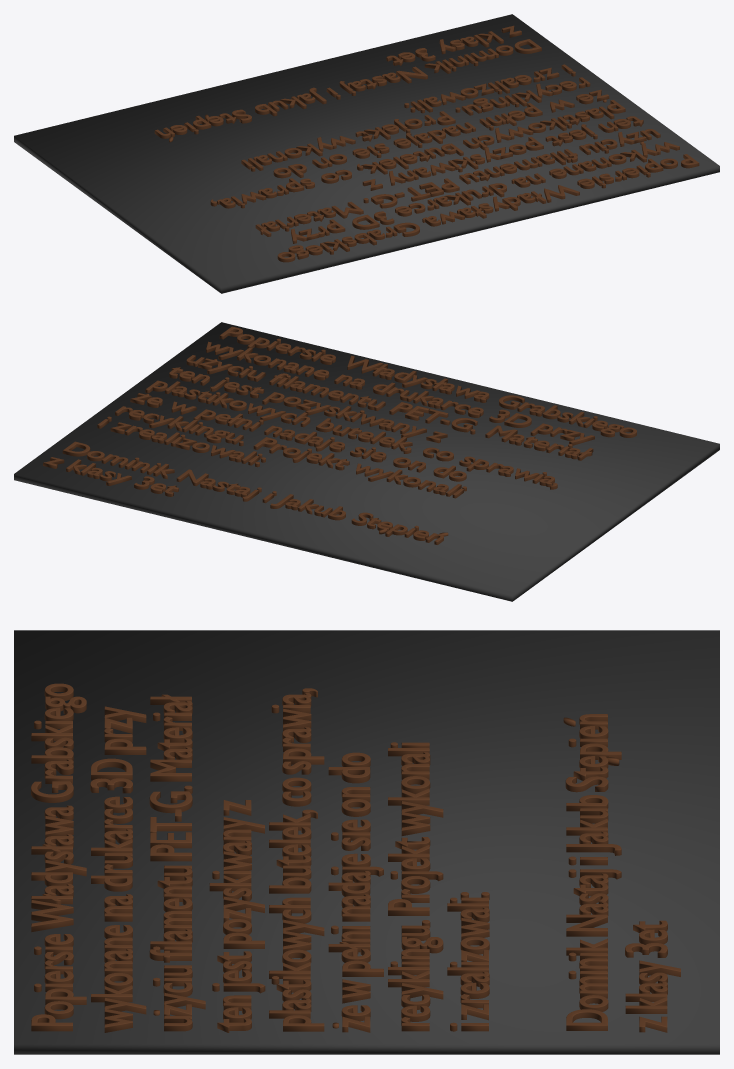
Rendered from tablica_boczna.fbx.
The picture shows the model from 3 angles, top to bottom: view 1: azimuth 30°, elevation 25°; view 2: azimuth 150°, elevation 25°; view 3: azimuth 270°, elevation 25°; orthographic projection. The views are drawn at different scales.
Visible parts, largest first — view 1: tekst; view 2: tekst; view 3: tekst.
Boxes of the visible parts, x1,y1,x2,y2 form: tekst: (14,14,719,293); tekst: (14,322,719,601); tekst: (14,630,719,1054).
Size of the model in its own units: 692 by 12.72 by 499.
